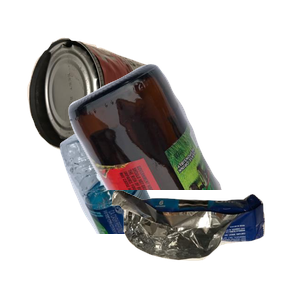glass: (66, 61, 300, 241)
metal: (25, 35, 189, 180)
plastic: (57, 120, 284, 300)
trash: (109, 187, 300, 300)
